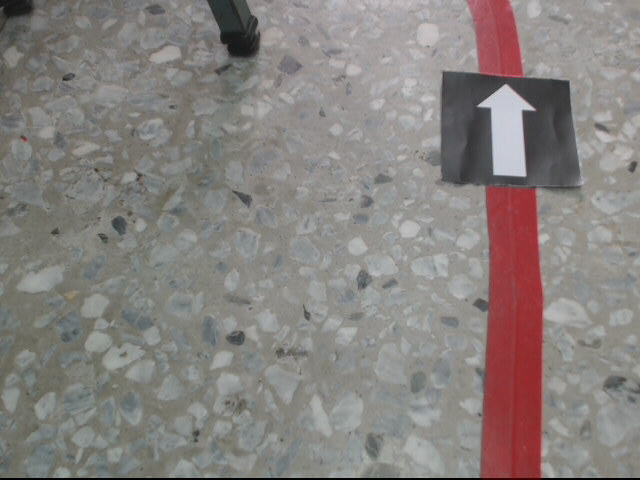straight: (443, 70, 586, 190)
